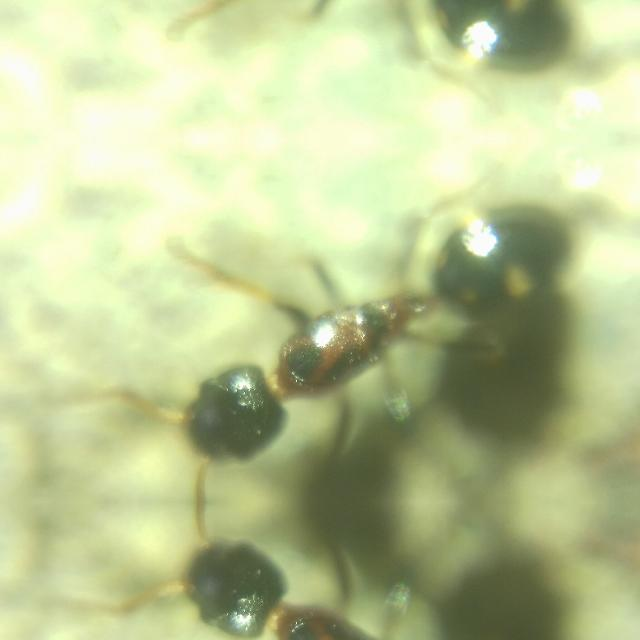Dolichoderus: (34, 184, 624, 500), (34, 502, 624, 640), (34, 0, 624, 92)
